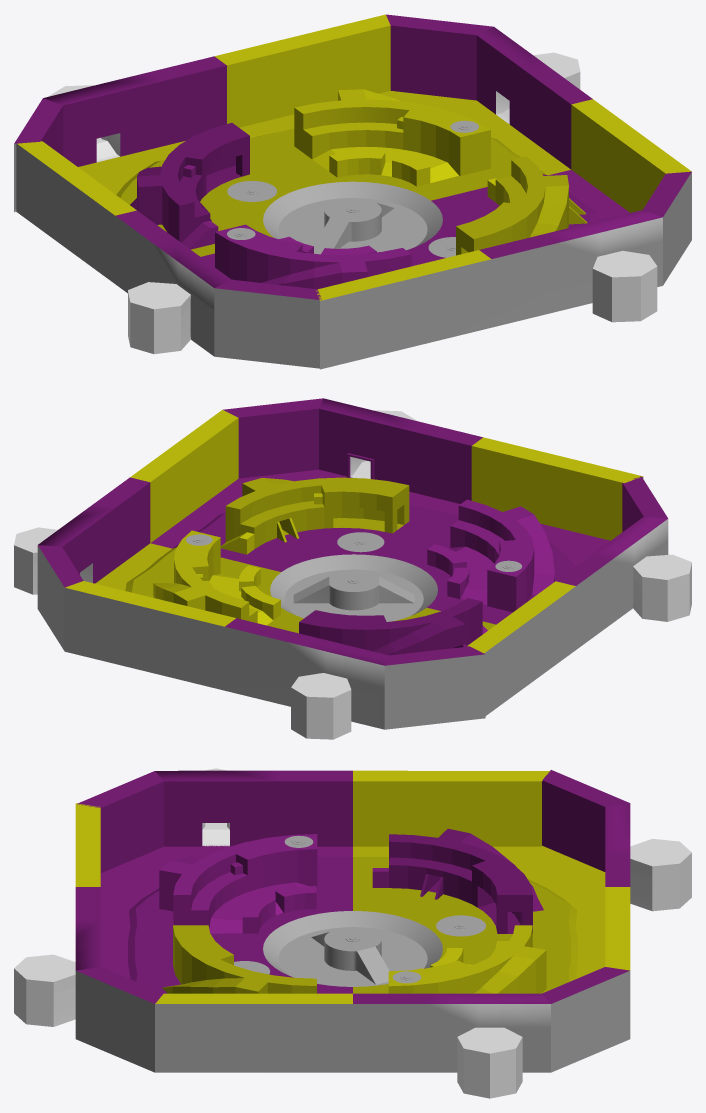
File: whole level2.fbx
The picture shows the model from 3 angles, top to bottom: view 1: azimuth 30°, elevation 25°; view 2: azimuth 150°, elevation 25°; view 3: azimuth 270°, elevation 25°; orthographic projection. The views are drawn at different scales.
Visible parts, largest first — view 1: NorthWallAndSpawn, EastWallAndSpawn, SouthWallAndSpawn, WestWallAndSpawn, courtyard_outer_2, courtyard_raised_light, courtyard_outer_7, courtyard_raised_neutral, courtyard_outer_5, courtyard_outer_8, floor_light, courtyard_cover2 (+6 smaller); view 2: SouthWallAndSpawn, NorthWallAndSpawn, EastWallAndSpawn, WestWallAndSpawn, courtyard_outer_8, courtyard_raised_dark, courtyard_outer_5, courtyard_outer_7, courtyard_raised_neutral, floor_dark, courtyard_outer_2, Center_platform_and_stair_2 (+5 smaller); view 3: WestWallAndSpawn, EastWallAndSpawn, NorthWallAndSpawn, SouthWallAndSpawn, courtyard_raised_light, courtyard_outer_7, courtyard_outer_5, courtyard_raised_dark, courtyard_raised_neutral, floor_light, courtyard_outer_2, floor_dark (+4 smaller).
Boxes of the visible parts, x1=… form: NorthWallAndSpawn: x1=316, y1=171, x2=691, y2=369; EastWallAndSpawn: x1=16, y1=141, x2=321, y2=368; SouthWallAndSpawn: x1=14, y1=14, x2=390, y2=212; WestWallAndSpawn: x1=386, y1=14, x2=691, y2=212; courtyard_outer_2: x1=294, y1=89, x2=490, y2=175; courtyard_raised_light: x1=116, y1=129, x2=546, y2=256; courtyard_outer_7: x1=130, y1=122, x2=249, y2=242; courtyard_raised_neutral: x1=263, y1=181, x2=442, y2=254; courtyard_outer_5: x1=215, y1=224, x2=411, y2=289; courtyard_outer_8: x1=456, y1=156, x2=587, y2=255; floor_light: x1=78, y1=91, x2=570, y2=194; courtyard_cover2: x1=312, y1=147, x2=458, y2=186; SouthWallAndSpawn: x1=64, y1=581, x2=485, y2=739; NorthWallAndSpawn: x1=223, y1=398, x2=643, y2=540; EastWallAndSpawn: x1=467, y1=476, x2=691, y2=715; WestWallAndSpawn: x1=14, y1=410, x2=238, y2=650; courtyard_outer_8: x1=225, y1=477, x2=409, y2=548; courtyard_raised_dark: x1=173, y1=505, x2=574, y2=624; courtyard_outer_5: x1=450, y1=499, x2=554, y2=612; courtyard_outer_7: x1=299, y1=598, x2=482, y2=655; courtyard_raised_neutral: x1=270, y1=554, x2=437, y2=621; floor_dark: x1=150, y1=469, x2=610, y2=566; courtyard_outer_2: x1=153, y1=530, x2=257, y2=623; Center_platform_and_stair_2: x1=293, y1=569, x2=414, y2=610; WestWallAndSpawn: x1=155, y1=967, x2=630, y2=1098; EastWallAndSpawn: x1=77, y1=768, x2=550, y2=872; NorthWallAndSpawn: x1=14, y1=803, x2=163, y2=1072; SouthWallAndSpawn: x1=542, y1=770, x2=691, y2=970; courtyard_raised_light: x1=353, y1=857, x2=577, y2=993; courtyard_outer_7: x1=389, y1=828, x2=543, y2=933; courtyard_outer_5: x1=159, y1=834, x2=317, y2=928; courtyard_raised_dark: x1=128, y1=857, x2=352, y2=993; courtyard_raised_neutral: x1=263, y1=911, x2=442, y2=986; floor_light: x1=353, y1=845, x2=605, y2=978; courtyard_outer_2: x1=388, y1=925, x2=546, y2=993; floor_dark: x1=100, y1=845, x2=352, y2=978.
Bounding box in the file's own units: 187 × 22 × 188.
